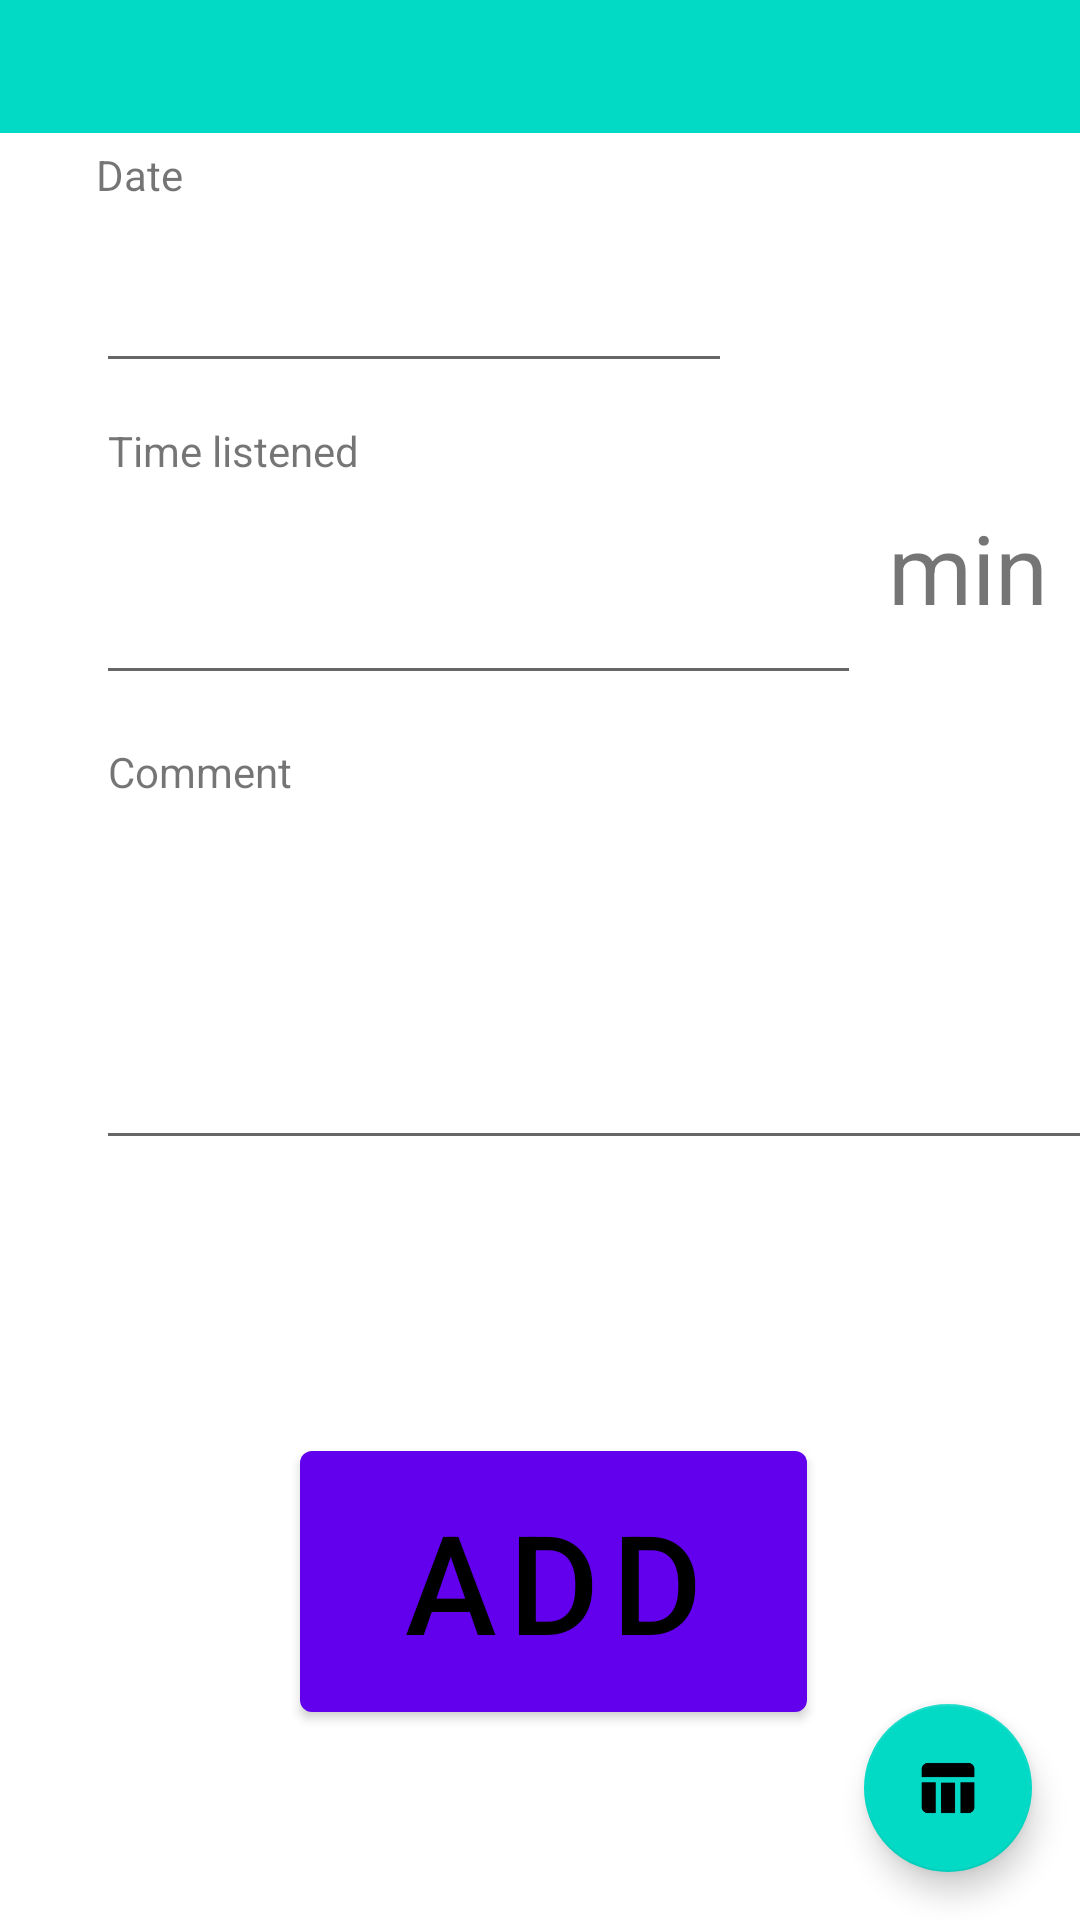

Where to tap for icons on this 1080×1920 app screen, as [x,y]:
table chart: [948,1788]
